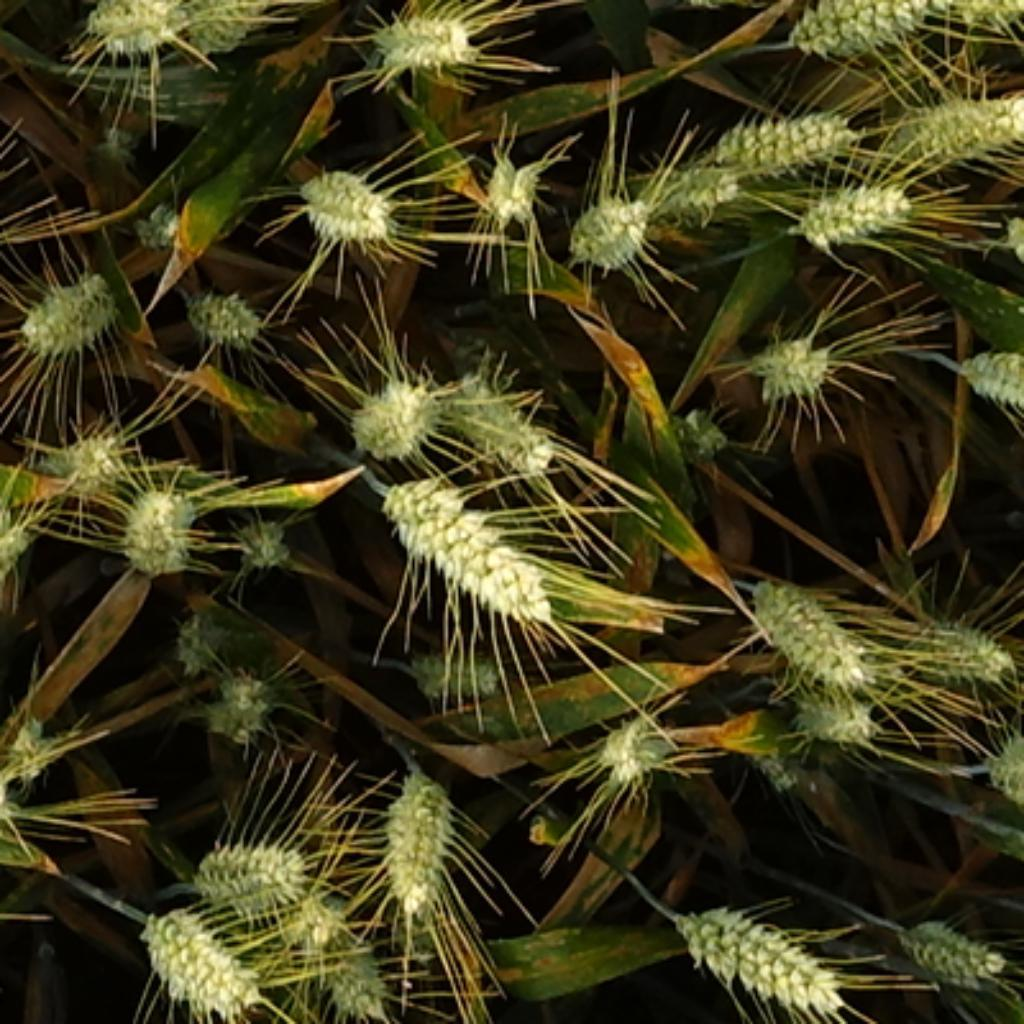0-0: (368, 458, 565, 629), (665, 880, 852, 1013), (739, 558, 878, 683), (670, 94, 867, 181), (140, 898, 268, 1016), (435, 358, 558, 473), (375, 770, 467, 919), (12, 256, 125, 353), (896, 82, 1024, 167), (289, 148, 401, 243), (788, 0, 962, 61), (898, 593, 1011, 686), (181, 824, 309, 906), (645, 128, 757, 217), (885, 901, 1003, 985), (343, 360, 445, 453), (791, 166, 919, 240), (112, 468, 202, 570), (560, 176, 655, 263), (366, 0, 481, 71), (309, 916, 389, 1013), (30, 414, 133, 488), (721, 701, 803, 793), (743, 326, 838, 402), (0, 696, 76, 791), (404, 647, 519, 709), (202, 655, 286, 737), (591, 696, 673, 780), (174, 271, 266, 343), (944, 337, 1024, 417), (276, 885, 358, 960), (783, 680, 878, 742), (647, 391, 729, 460), (174, 0, 291, 48), (76, 0, 186, 51), (166, 593, 240, 663), (476, 143, 542, 220), (0, 491, 40, 614), (227, 506, 294, 568), (975, 724, 1024, 798), (125, 192, 184, 248), (0, 747, 23, 832), (958, 0, 1024, 24)
